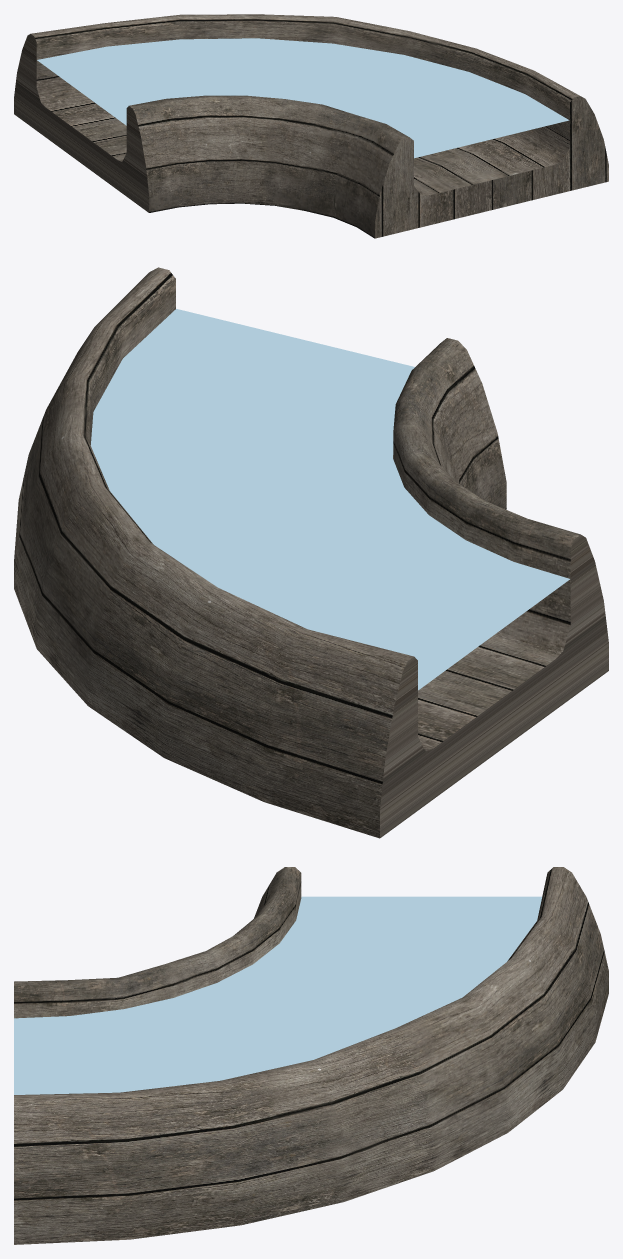
The model's file is elbow.glb.
3 views of the same model, one above another, from view 1: azimuth 30°, elevation 25°; view 2: azimuth 150°, elevation 25°; view 3: azimuth 270°, elevation 25° (orthographic). The views are drawn at different scales.
Parts seen in each view (by area): view 1: Channel, Water; view 2: Channel, Water; view 3: Channel, Water.
Boxes of the visible parts, x1,y1,x2,y2 form: Channel: (14,14,608,238); Water: (37,38,569,158); Channel: (14,267,608,838); Water: (90,309,569,690); Channel: (14,867,608,1244); Water: (14,896,541,1094).
Size of the model in its own units: 1.45 by 0.34 by 1.45.
Materials: 2 (1 with a texture image).
